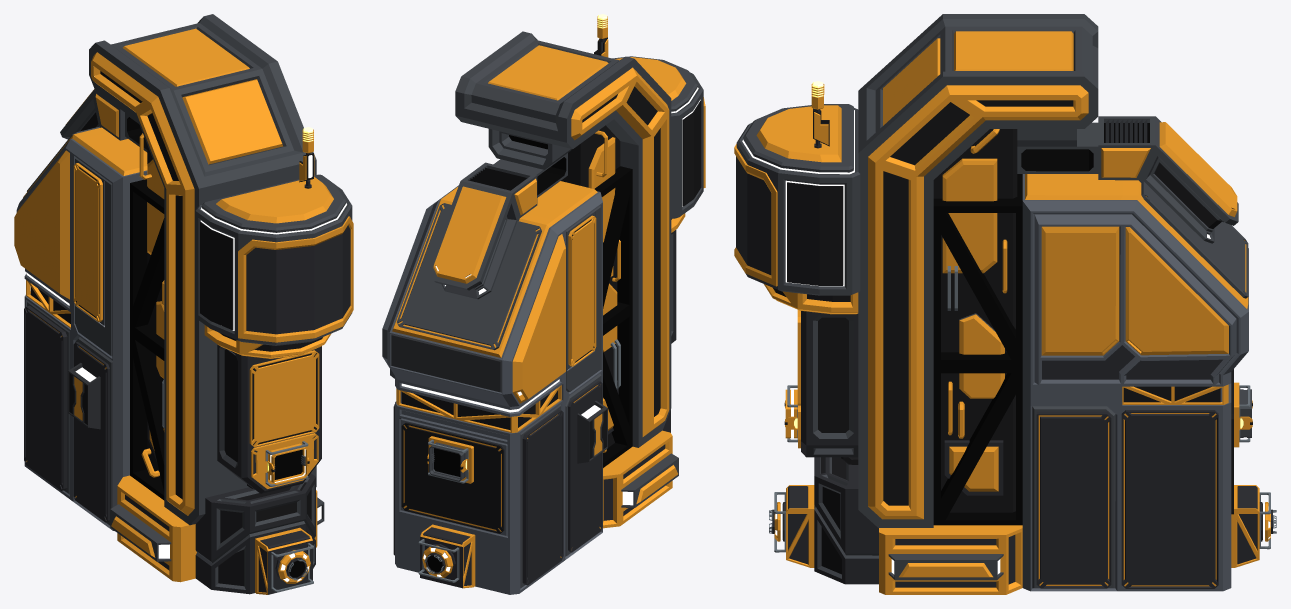
File: SM_Oil_refining_station.glb
3 renders of one model, left to right at view 1: azimuth 30°, elevation 25°; view 2: azimuth 150°, elevation 25°; view 3: azimuth 270°, elevation 25°, orthographic. The views are drawn at different scales.
Parts seen in each view (by area): view 1: SM_Oil_refining_station; view 2: SM_Oil_refining_station; view 3: SM_Oil_refining_station.
Boxes of the visible parts, x1,y1,x2,y2 form: SM_Oil_refining_station: (14,14,353,594); SM_Oil_refining_station: (382,14,705,594); SM_Oil_refining_station: (734,14,1276,594).
Size of the model in its own units: 6.58 by 17.05 by 16.4.
3 materials, 1 textured.
